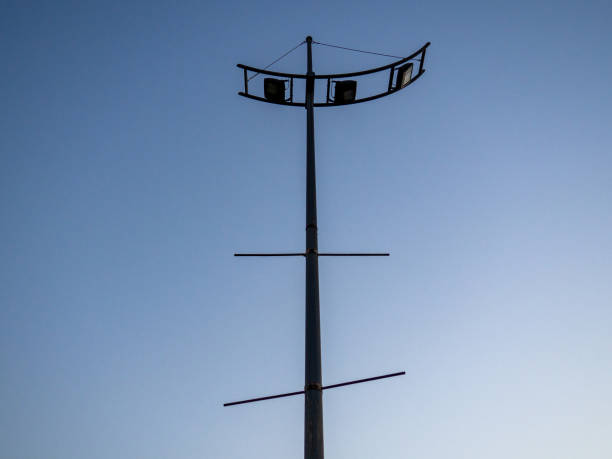light_pole: (304, 113, 324, 459)
